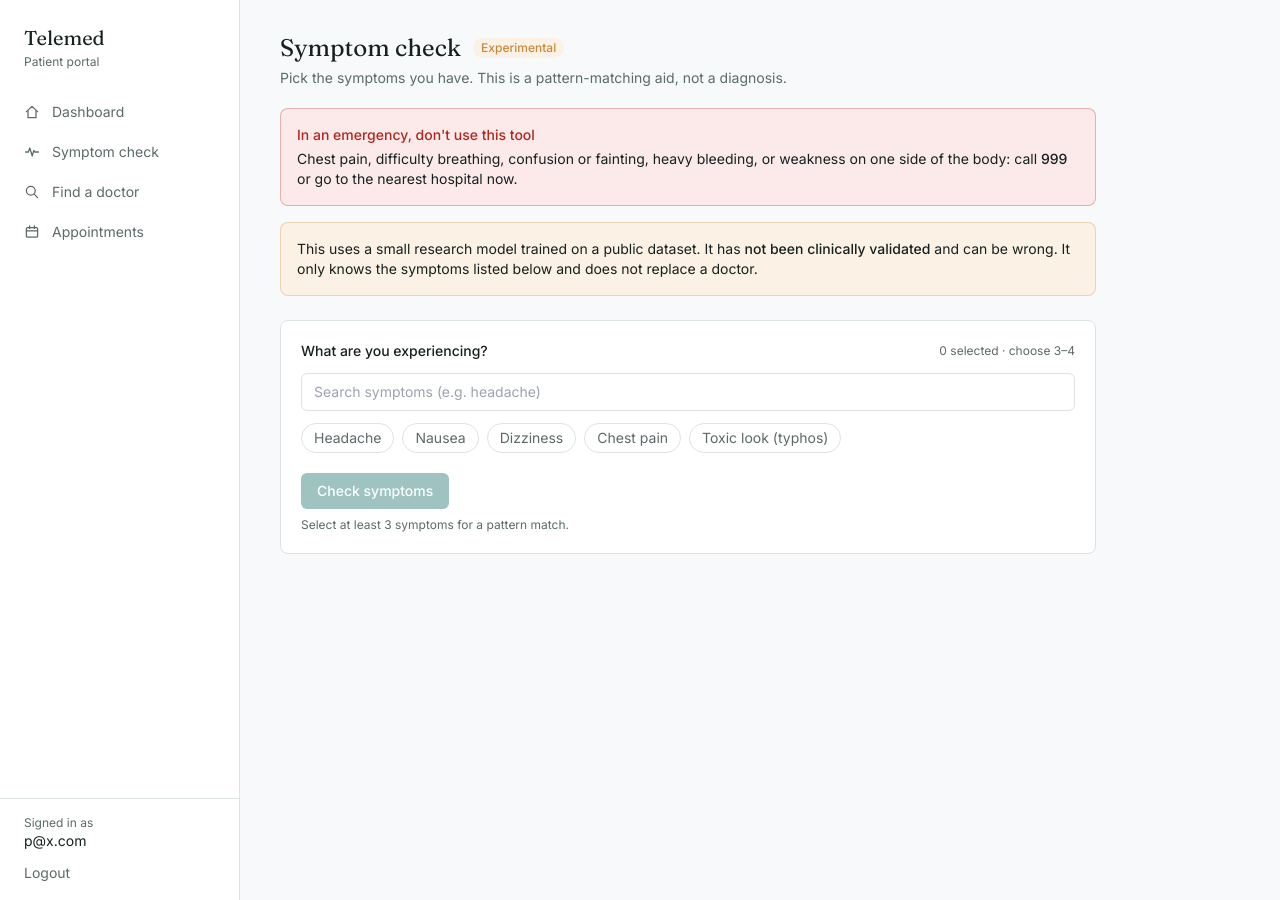
Test case: SymptomAssessment › URGENT warning is shown even when the AI service is down (error carries backend safety)
The width and height of the screenshot is (1280, 900).
Click the button "Headache": [348, 438] box left=301, top=423, right=394, bottom=453
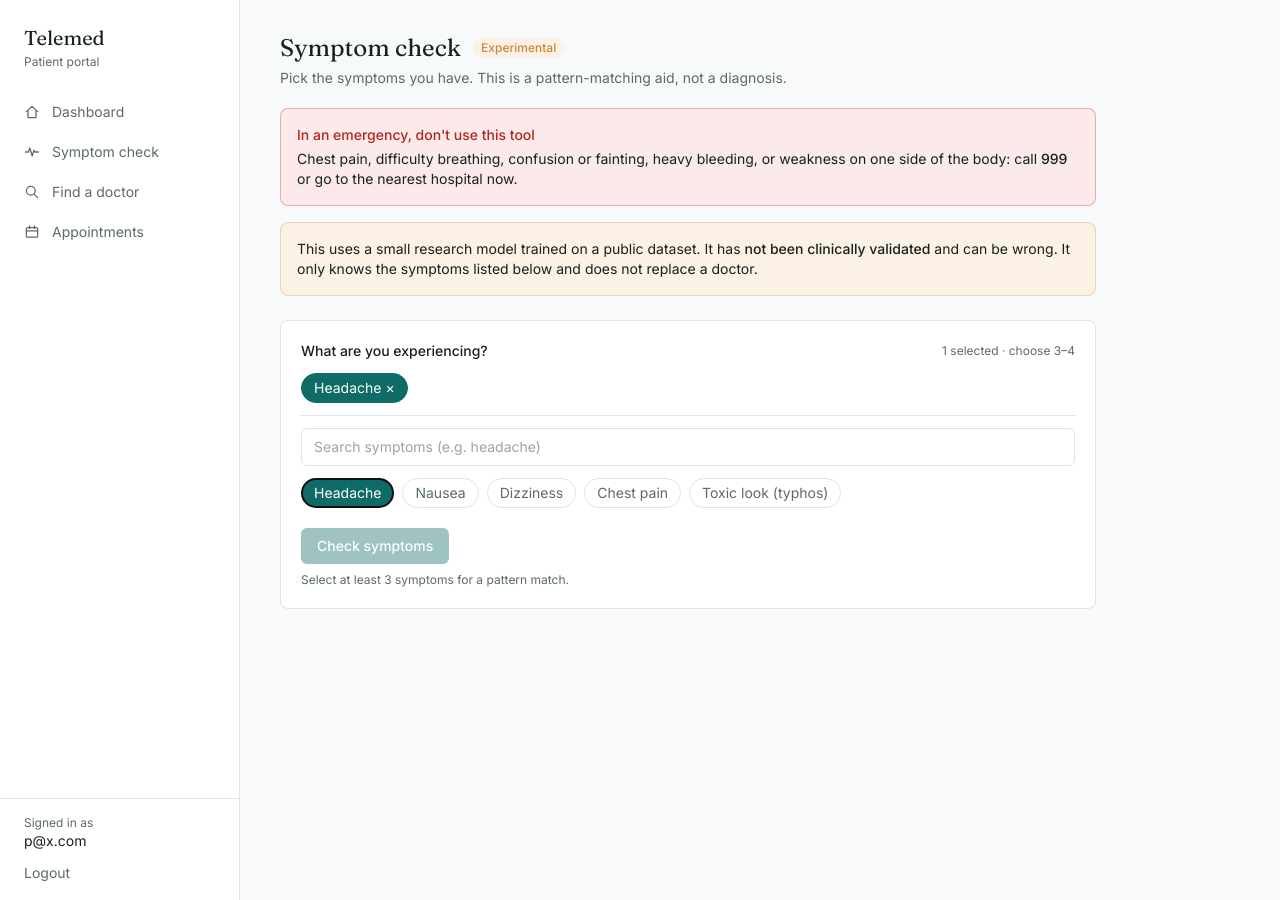
Click the button "Chest pain": [633, 493] box left=584, top=478, right=681, bottom=508
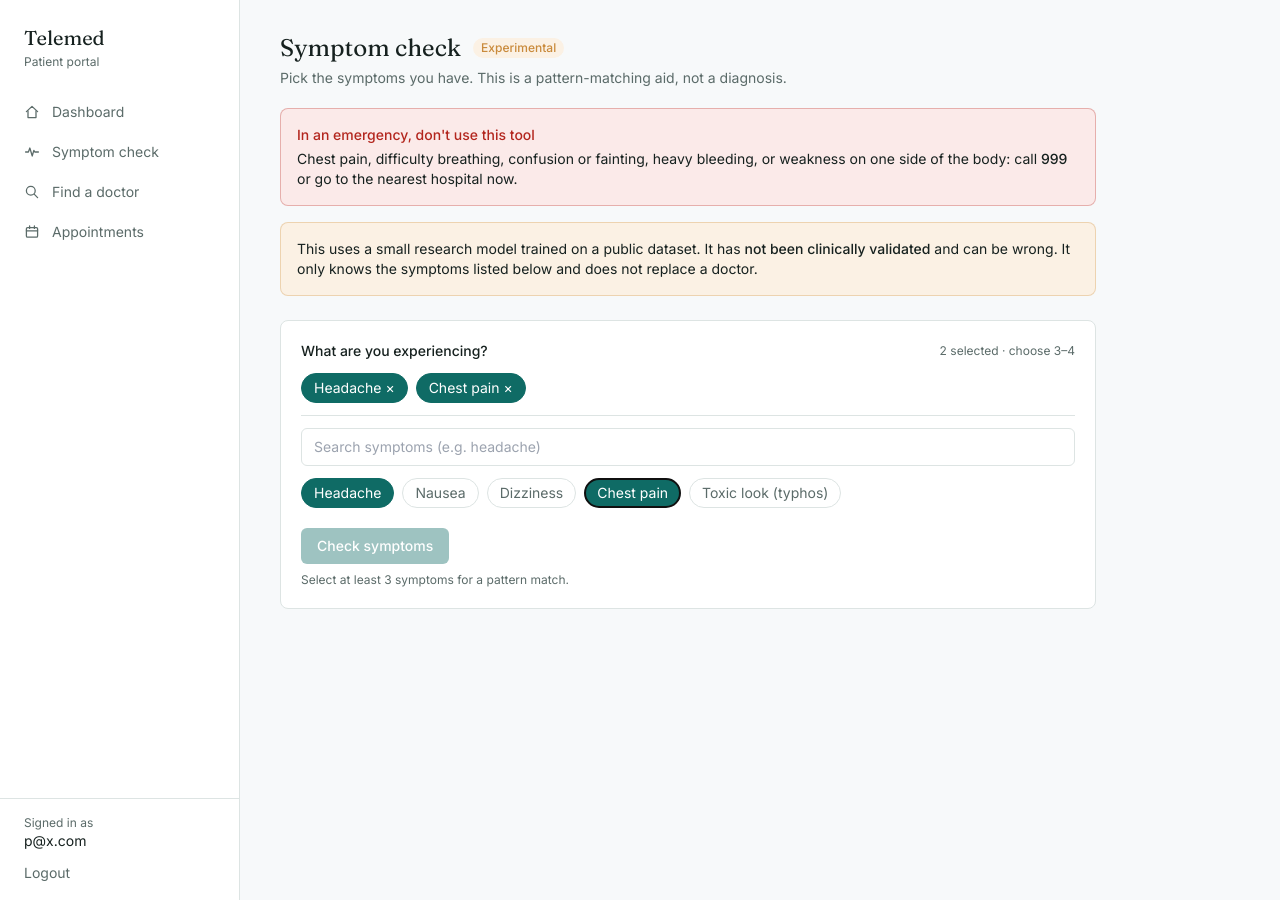
Click the button "Dizziness": [532, 493] box left=487, top=478, right=576, bottom=508
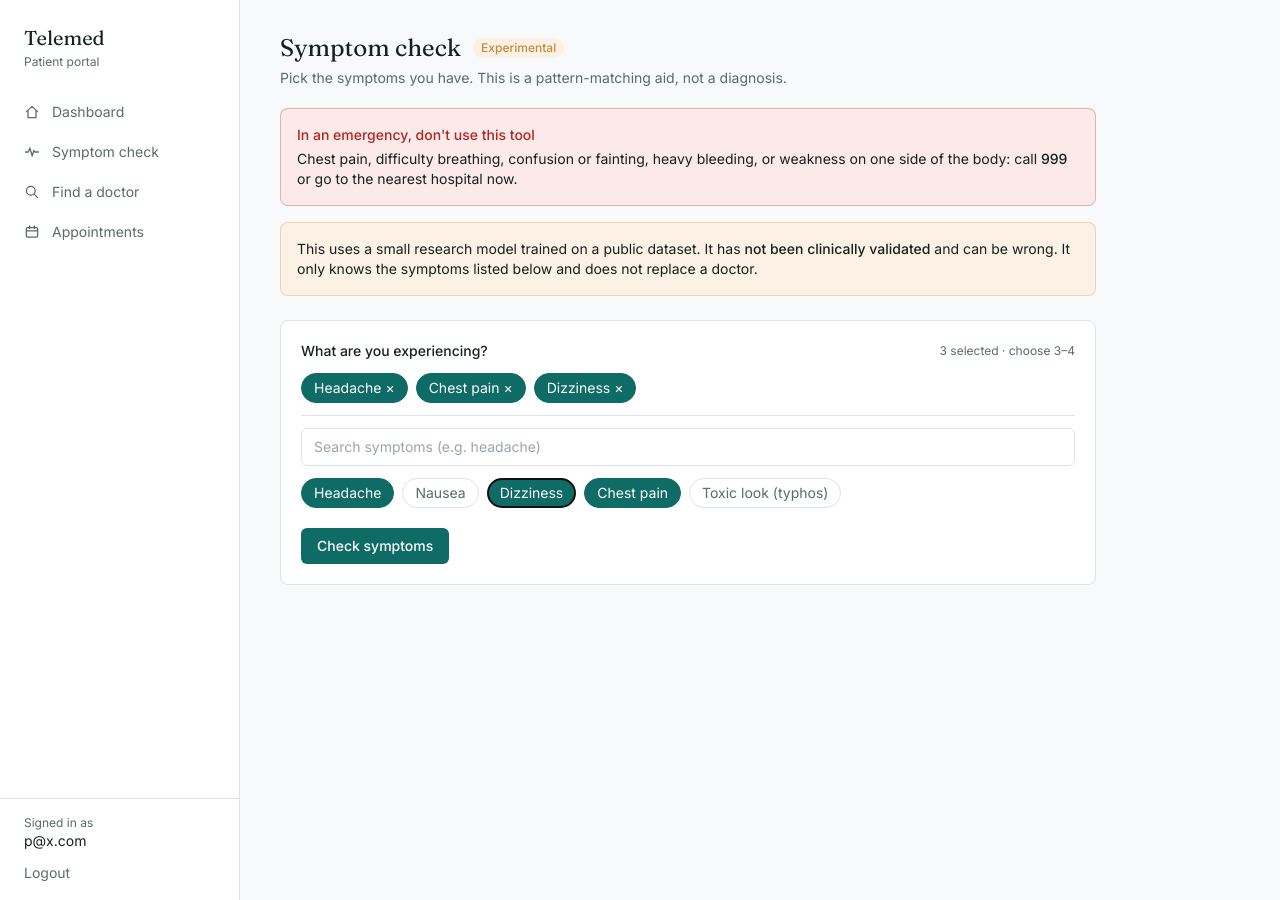
Click the button "Check symptoms": [375, 546] box left=301, top=528, right=449, bottom=564
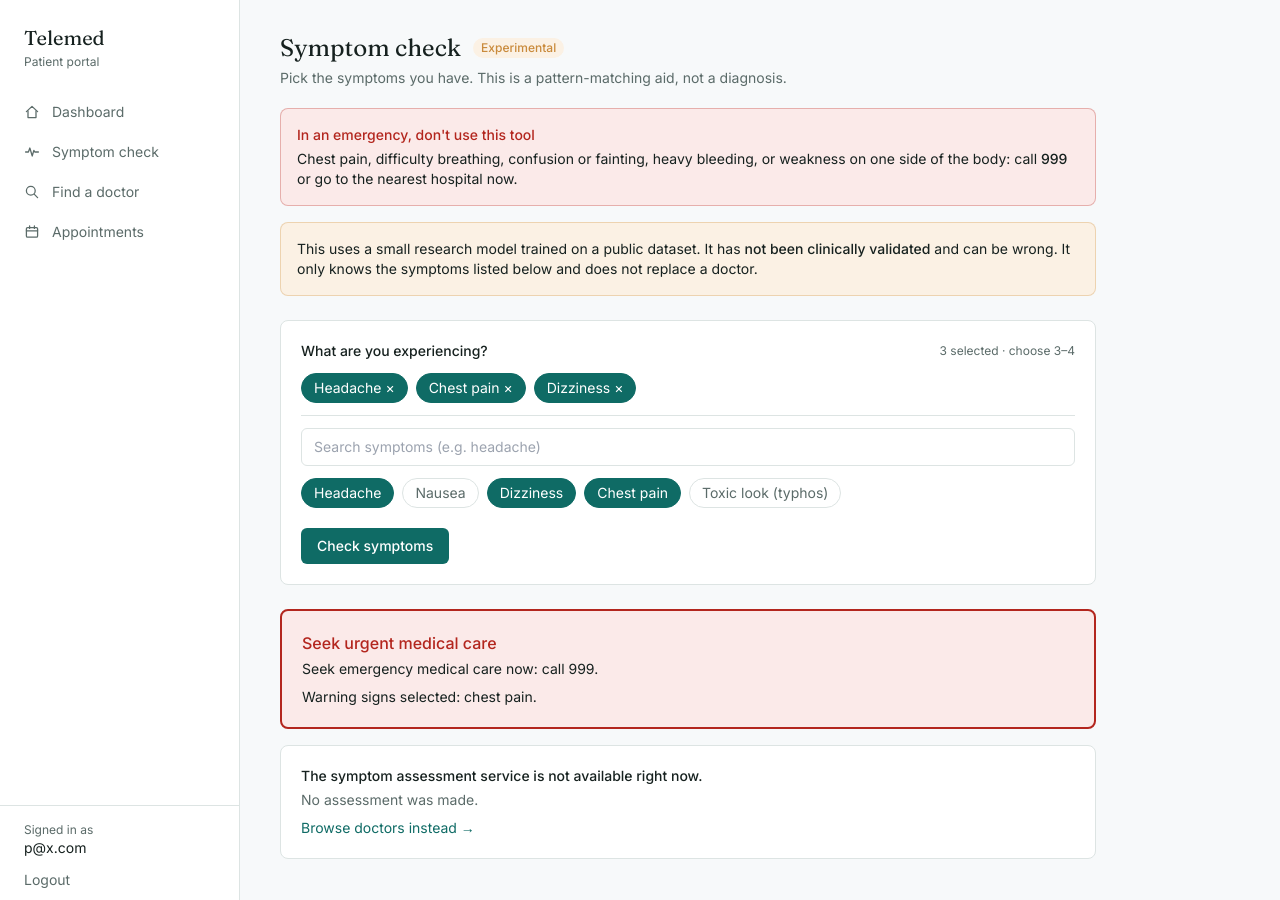
Expected: the message shows "Seek urgent medical care", left=302, top=633, right=497, bottom=653
Expected: the message shows "chest pain", left=464, top=688, right=533, bottom=705
Expected: the text "No assessment was made." is shown, left=301, top=791, right=478, bottom=808
